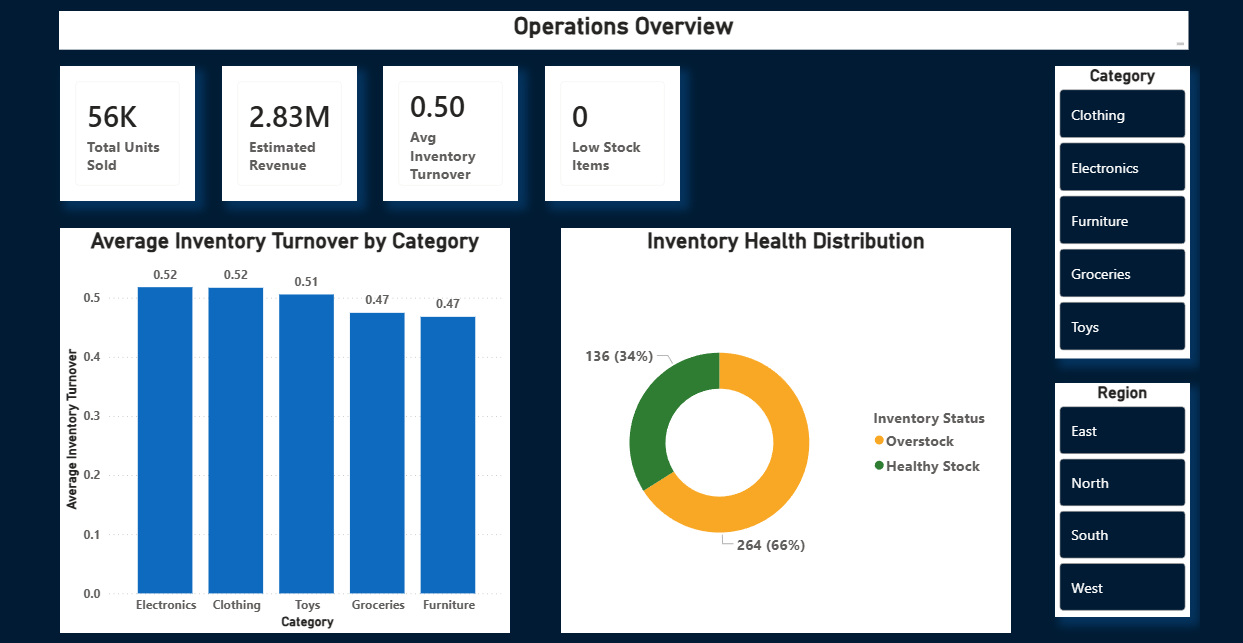

Layout of this report page (visuals, bound fields, positions):
{"tool":"powerbi","page":{"name":"Operations Overview","canvas":[1280,720],"ordinal":0},"visuals":[{"type":"cardVisual","fields":{"Data":["bi_retail_operations_final.Total Units Sold"]},"box":[13.3,73.3,150,150],"z":0},{"type":"cardVisual","fields":{"Data":["bi_retail_operations_final.Total Revenue"]},"box":[192.8,73.3,150,150],"z":1000},{"type":"cardVisual","fields":{"Data":["bi_retail_operations_final.Stockout Risk Count"]},"box":[551.7,73.3,150,150],"z":2000},{"type":"cardVisual","fields":{"Data":["bi_retail_operations_final.Average Inventory Turnover"]},"box":[372.2,73.3,150,150],"z":3000},{"type":"textbox","title":"Operations Overview","box":[12.5,11.7,1255,43.3],"z":4000},{"type":"clusteredColumnChart","title":"Average Inventory Turnover by Category","fields":{"Category":["bi_retail_operations_final.category"],"Y":["bi_retail_operations_final.Average Inventory Turnover"]},"box":[13.3,253.3,500,450],"z":5000},{"type":"donutChart","title":"Inventory Health Distribution","fields":{"Category":["bi_retail_operations_final.inventory_status"],"Y":["CountNonNull(bi_retail_operations_final.product_id)"]},"box":[570,253.3,500,450],"z":6000},{"type":"advancedSlicerVisual","title":"Category","fields":{"Values":["bi_retail_operations_final.category"]},"box":[1118.3,73.3,150,325],"z":7000},{"type":"advancedSlicerVisual","title":"Region","fields":{"Values":["bi_retail_operations_final.region"]},"box":[1118.3,425,150,260],"z":8000}]}

Visuals, with their boxes on the page's 1280x720 design canvas (x1, y1, x2, y2). These are canvas units, not pixel positions in the 1243x643 screenshot, which may show the page scaled, cropped or inside an application window:
cardVisual - bi_retail_operations_final.Total Units Sold: rect(13, 73, 163, 223)
cardVisual - bi_retail_operations_final.Total Revenue: rect(193, 73, 343, 223)
cardVisual - bi_retail_operations_final.Stockout Risk Count: rect(552, 73, 702, 223)
cardVisual - bi_retail_operations_final.Average Inventory Turnover: rect(372, 73, 522, 223)
"Operations Overview" textbox: rect(12, 12, 1268, 55)
"Average Inventory Turnover by Category" clusteredColumnChart: rect(13, 253, 513, 703)
"Inventory Health Distribution" donutChart: rect(570, 253, 1070, 703)
"Category" advancedSlicerVisual: rect(1118, 73, 1268, 398)
"Region" advancedSlicerVisual: rect(1118, 425, 1268, 685)
